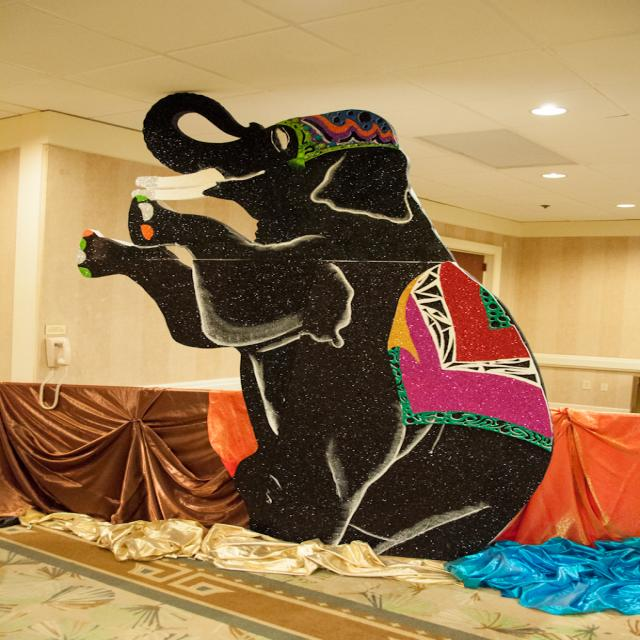elephant: (65, 96, 535, 544)
